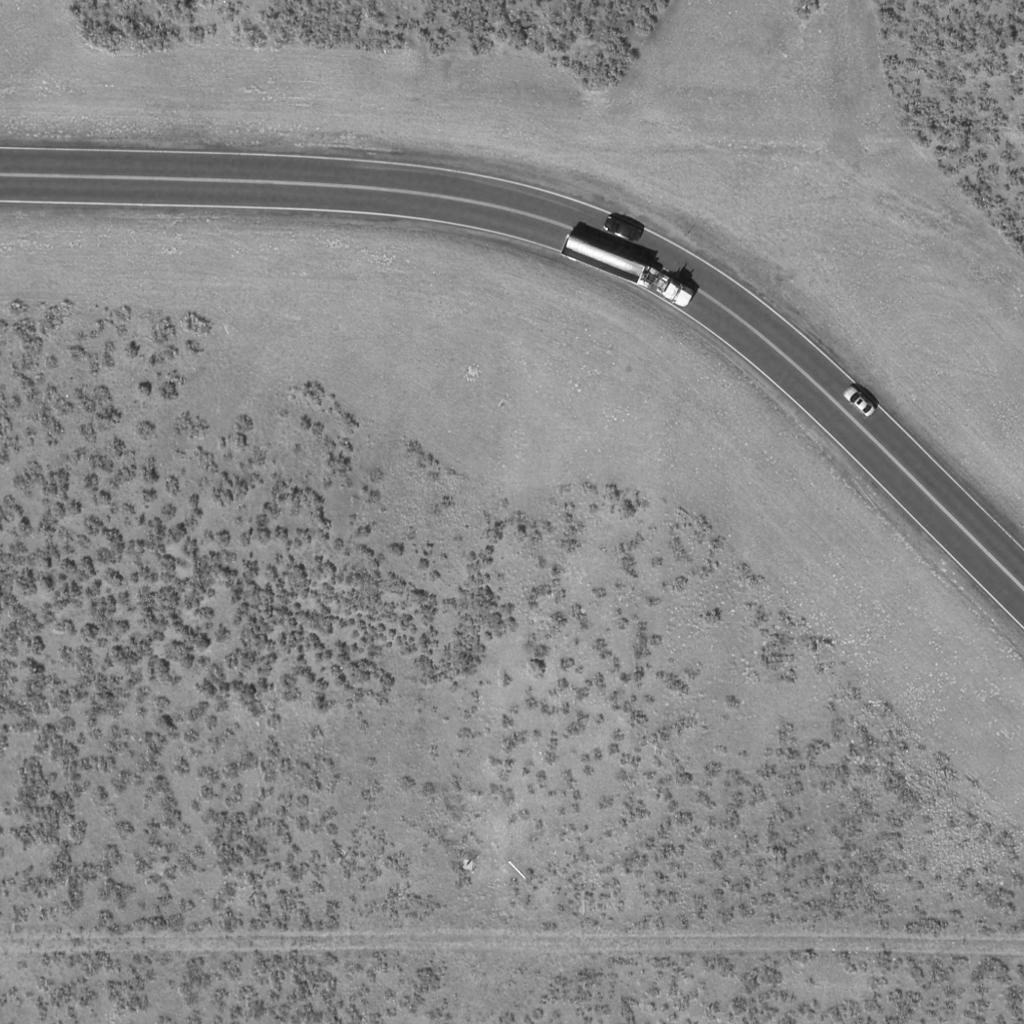vehicle: (559, 236, 695, 310), (840, 382, 880, 420), (599, 216, 647, 244)
